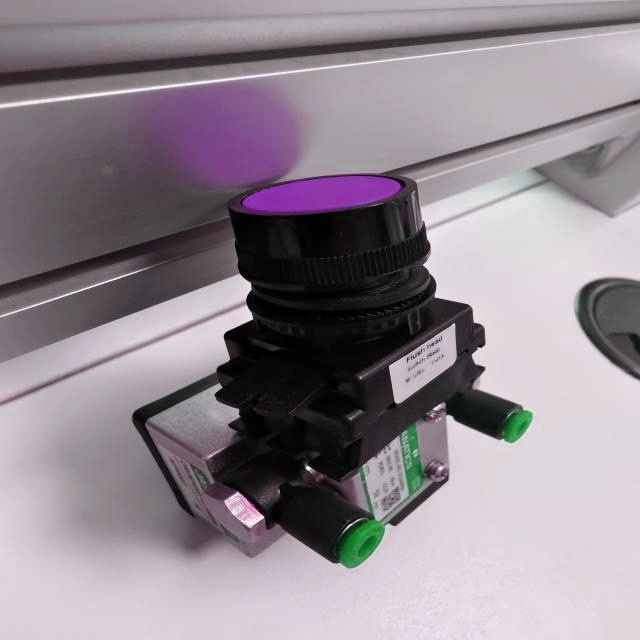push button: (132, 172, 534, 568)
